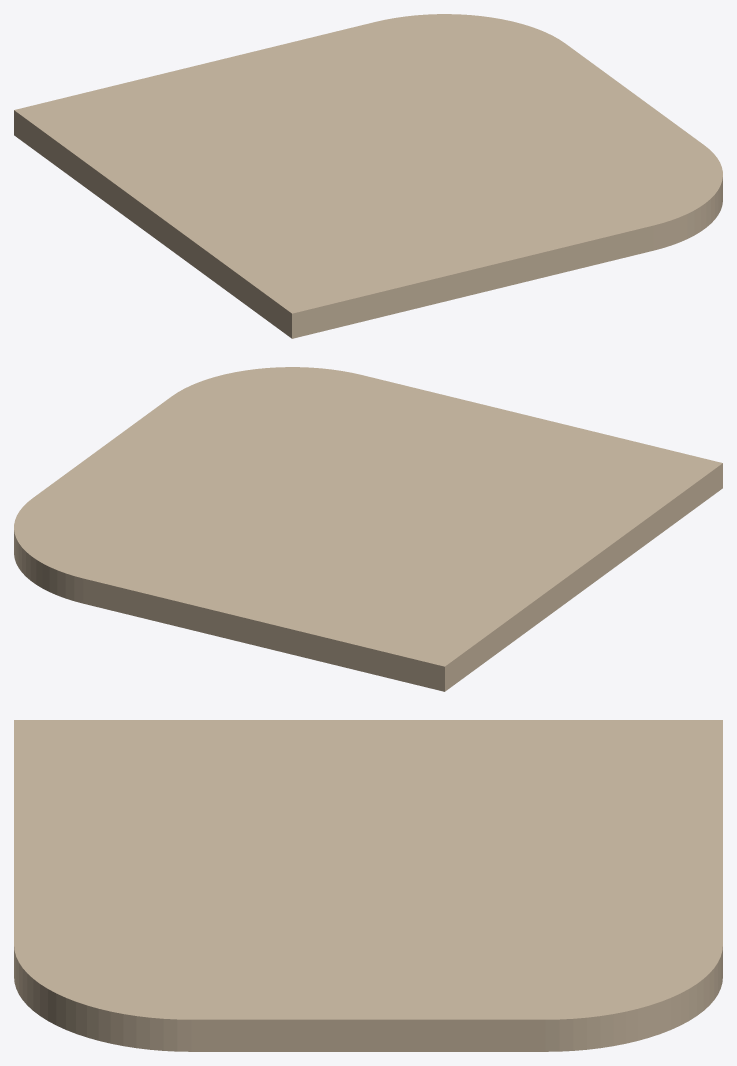
The model's file is sidewalk_full_roundcorners.fbx.
The picture shows the model from 3 angles, top to bottom: view 1: azimuth 30°, elevation 25°; view 2: azimuth 150°, elevation 25°; view 3: azimuth 270°, elevation 25°; orthographic projection. The views are drawn at different scales.
Parts seen in each view (by area): view 1: sidewalk round corners; view 2: sidewalk round corners; view 3: sidewalk round corners.
Boxes of the visible parts, x1,y1,x2,y2 form: sidewalk round corners: (14, 14, 722, 338); sidewalk round corners: (14, 367, 722, 691); sidewalk round corners: (14, 720, 722, 1051).
Bounding box in the file's own units: 2000 × 100 × 2000.
